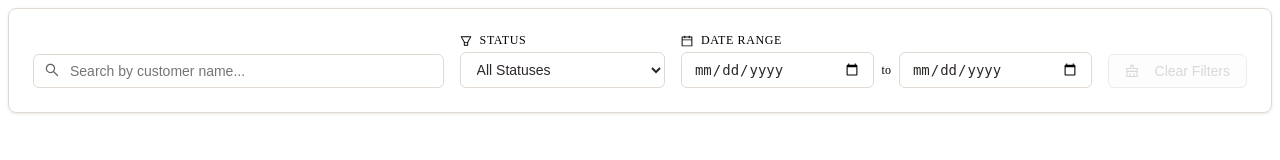
Test: SearchAndFilters › Search Functionality › clears search when clear search button is clicked
The image size is (1280, 160).
Step 1. Type "test" into the field with placeholder "Search by customer name..." → (238, 71), box [33,54,444,88]
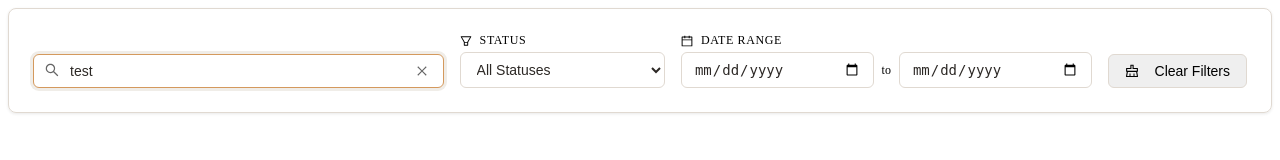
Step 2. Click the button named "Clear search" → (422, 71), box [412,61,432,81]
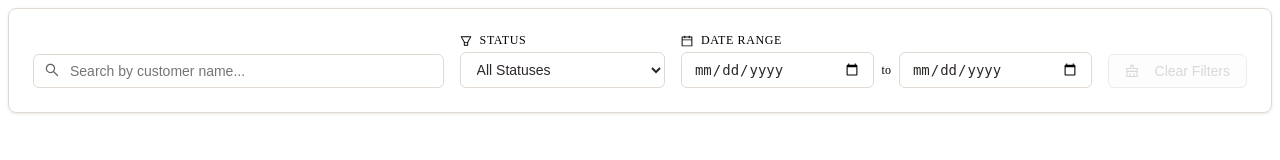
Expected: the field with placeholder "Search by customer name..." is empty, [33,54,444,88]
